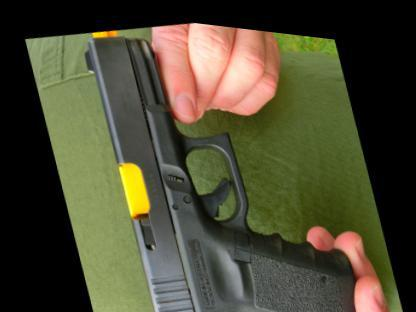pistol: (74, 6, 361, 311)
